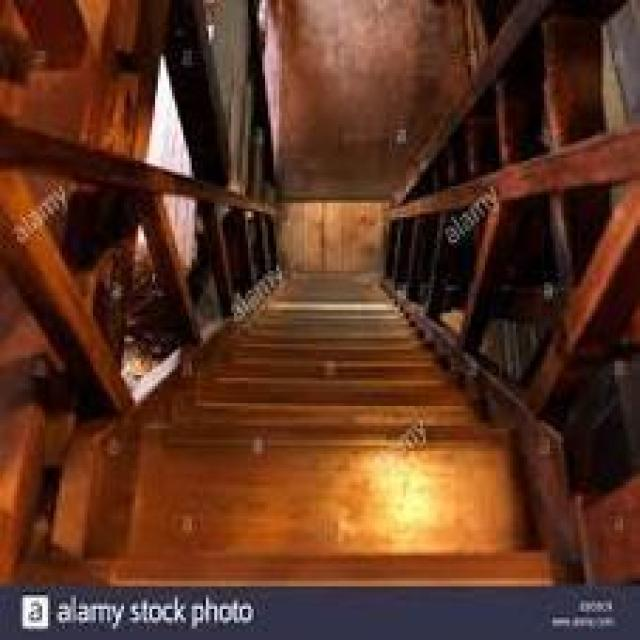downstair: (159, 328, 500, 461)
